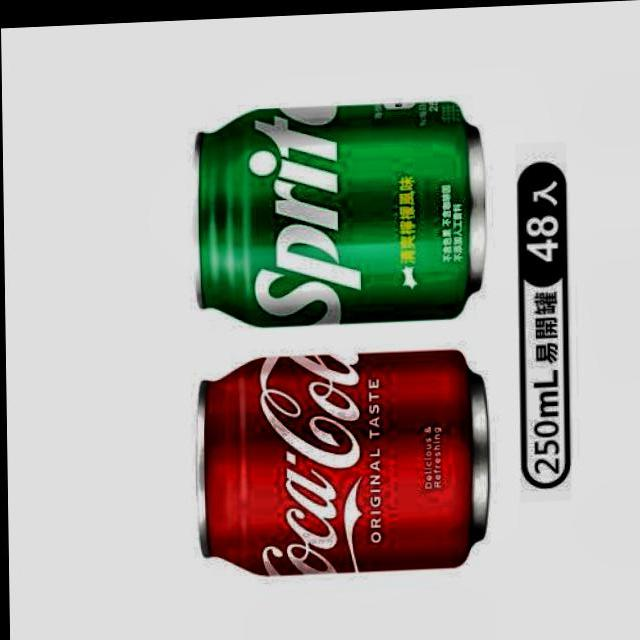litter: (184, 335, 500, 582), (184, 85, 496, 334)
